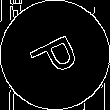P_NE: (24, 28, 86, 82)
